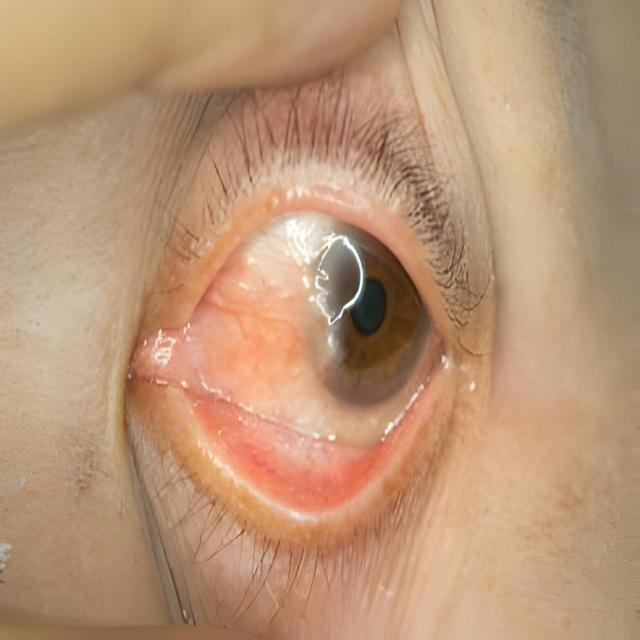Pterygium: (172, 238, 350, 422)
